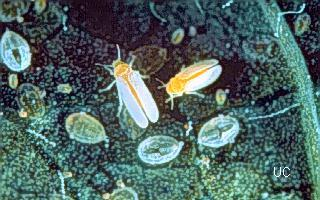whitefly: (95, 45, 159, 129), (156, 58, 222, 111)
